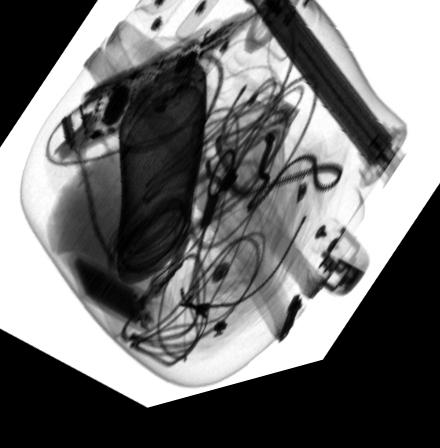Powerbank: (69, 255, 155, 343)
